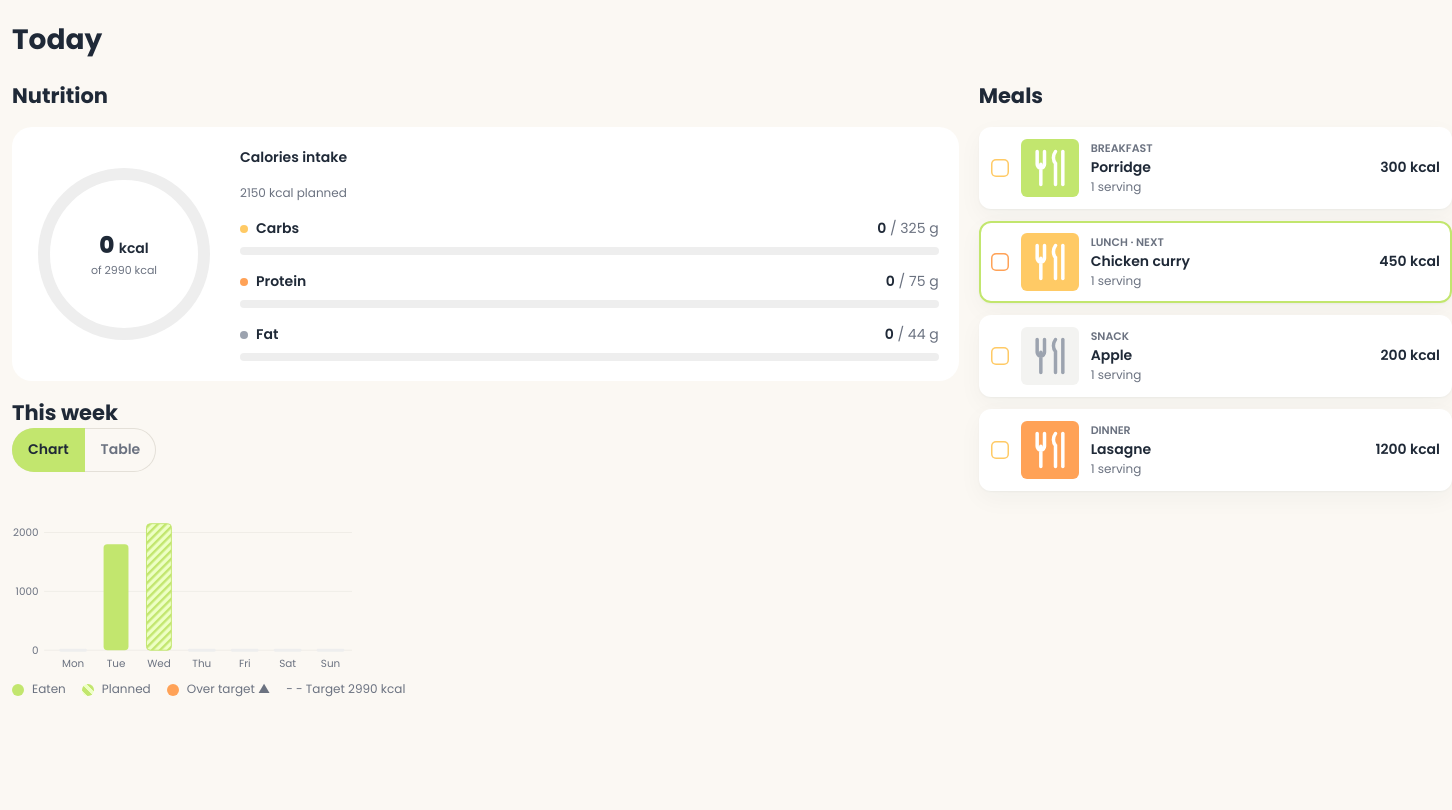
TodayPage › AC-2: ticking Breakfast turns the check done and updates eaten and the bars
Click the checkbox named "breakfast".
click(1000, 168)  # box x1=991 y1=158 x2=1009 y2=176
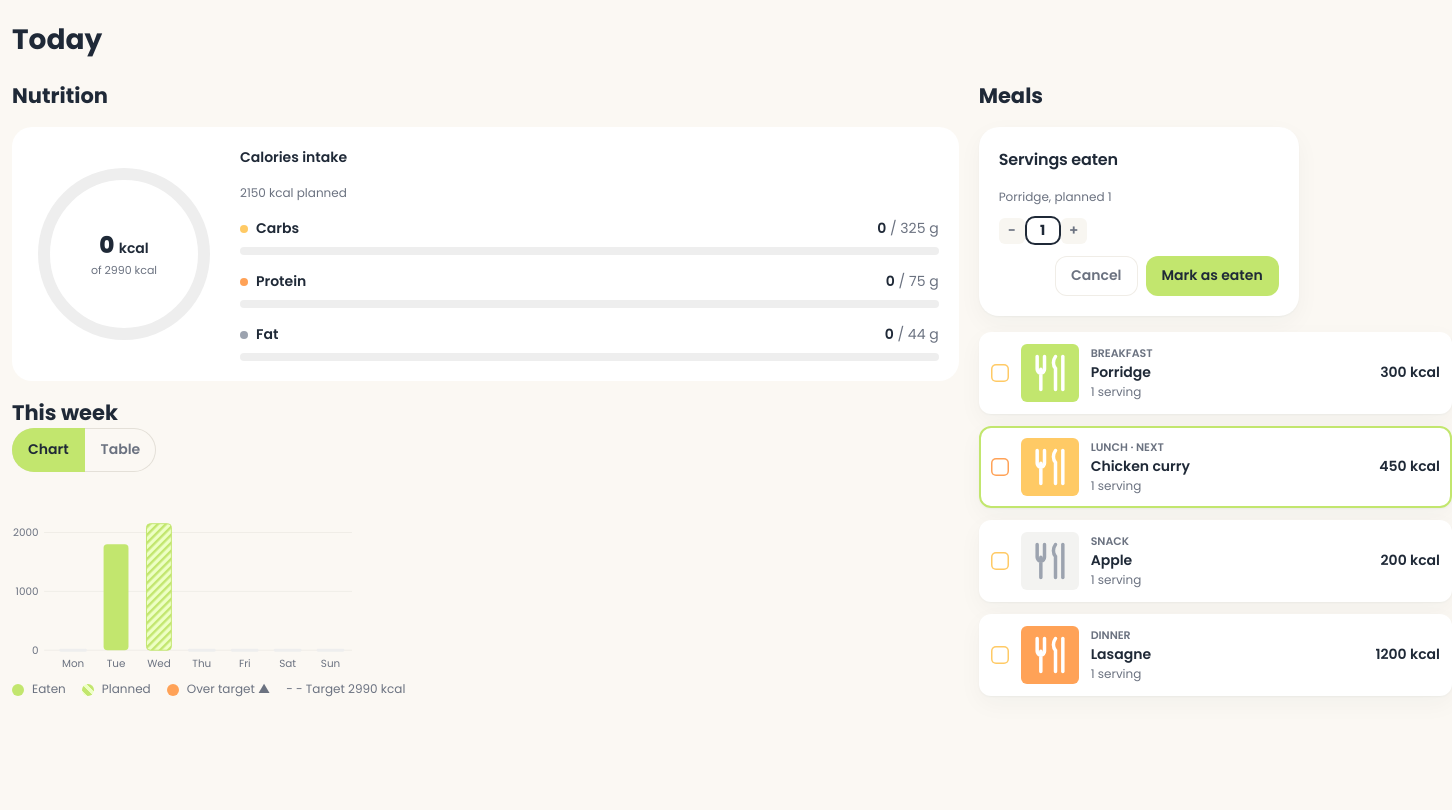
Click the button "Mark as eaten".
click(1212, 276)  # box x1=1146 y1=256 x2=1279 y2=296
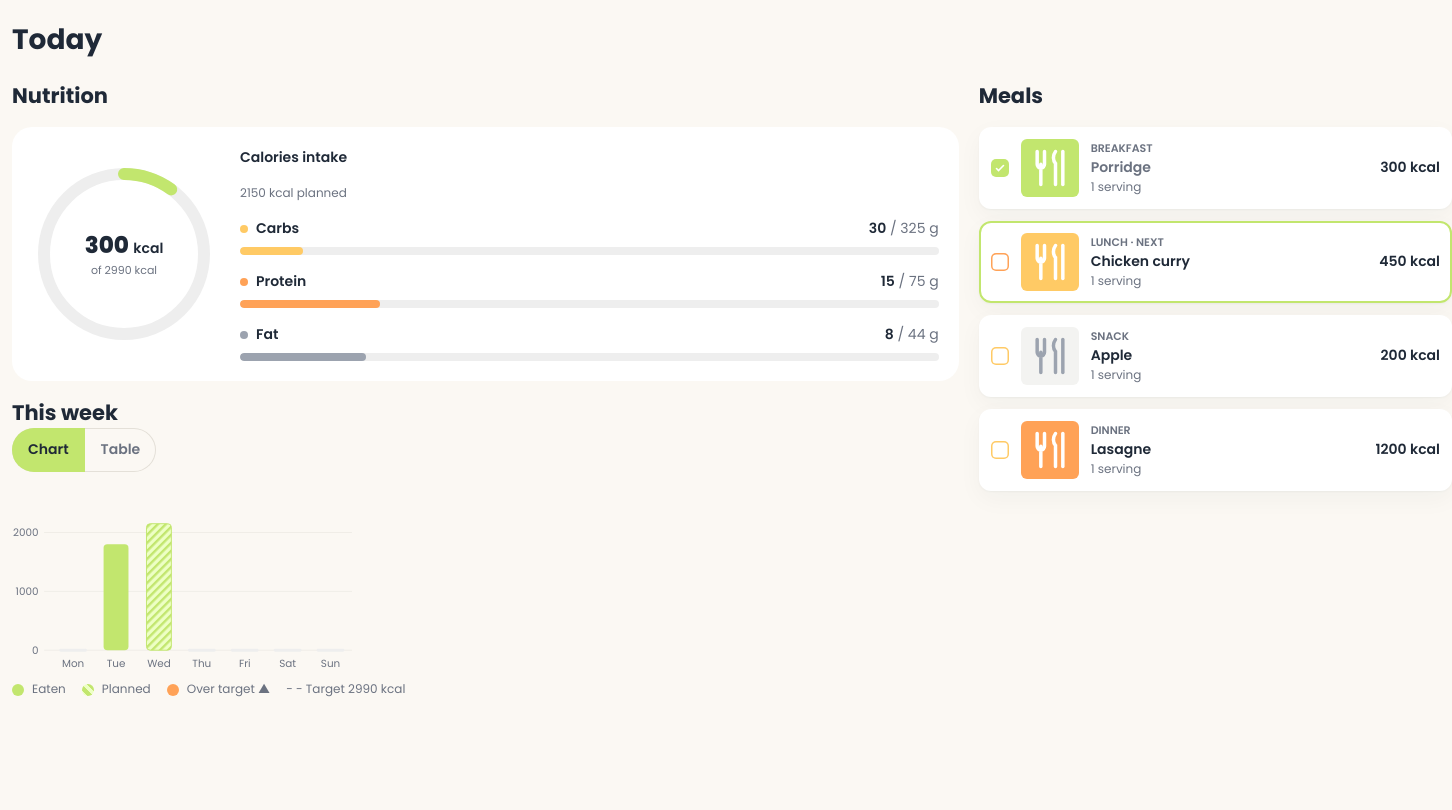
Result: the checkbox named "breakfast" is checked at x1=991 y1=158 x2=1009 y2=176
Result: the picture "300 kcal of 2990" is shown at x1=32 y1=162 x2=216 y2=346
